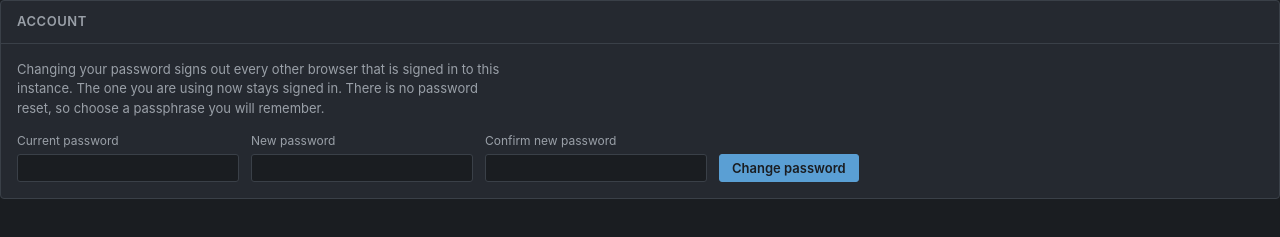
Test: Account › posts the change and reports Saved.
Step 1. Type "example-current-passphrase" into the password field labelled "Current password" → (128, 168), box [17, 154, 239, 182]
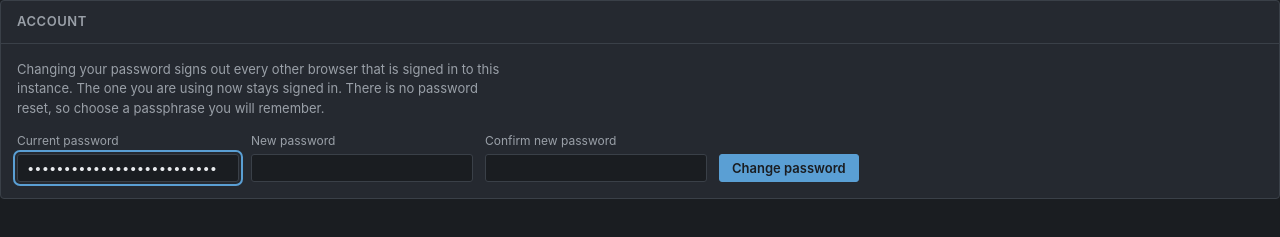
Step 2. Type "example-rotated-passphrase" into the password field labelled "New password" → (362, 168), box [251, 154, 473, 182]
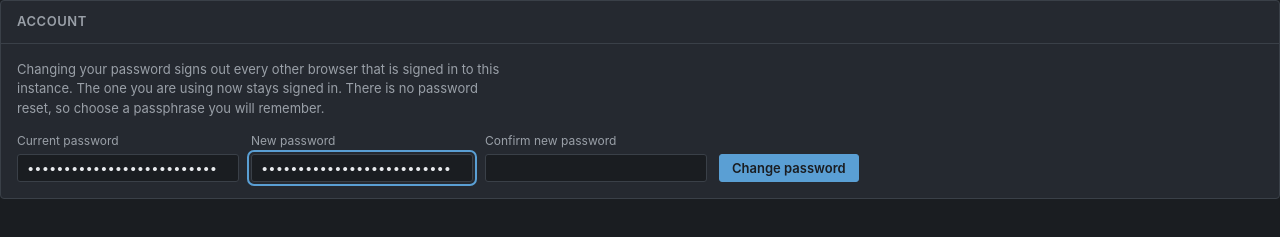
Step 3. Type "example-rotated-passphrase" into the password field labelled "Confirm new password" → (596, 168), box [485, 154, 707, 182]
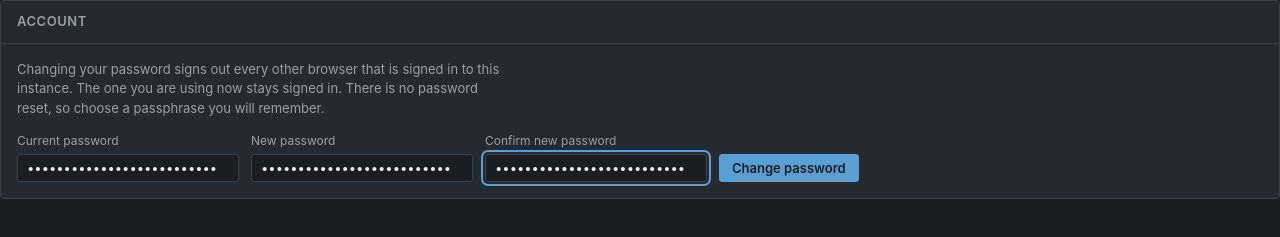
Step 4. Click the button "Change password" → click(789, 168), box [719, 154, 859, 182]
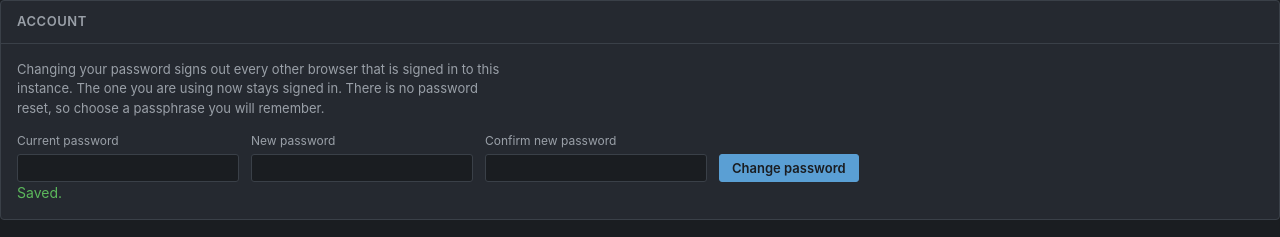
Check: the text "Saved." is shown, box [17, 184, 62, 201]
